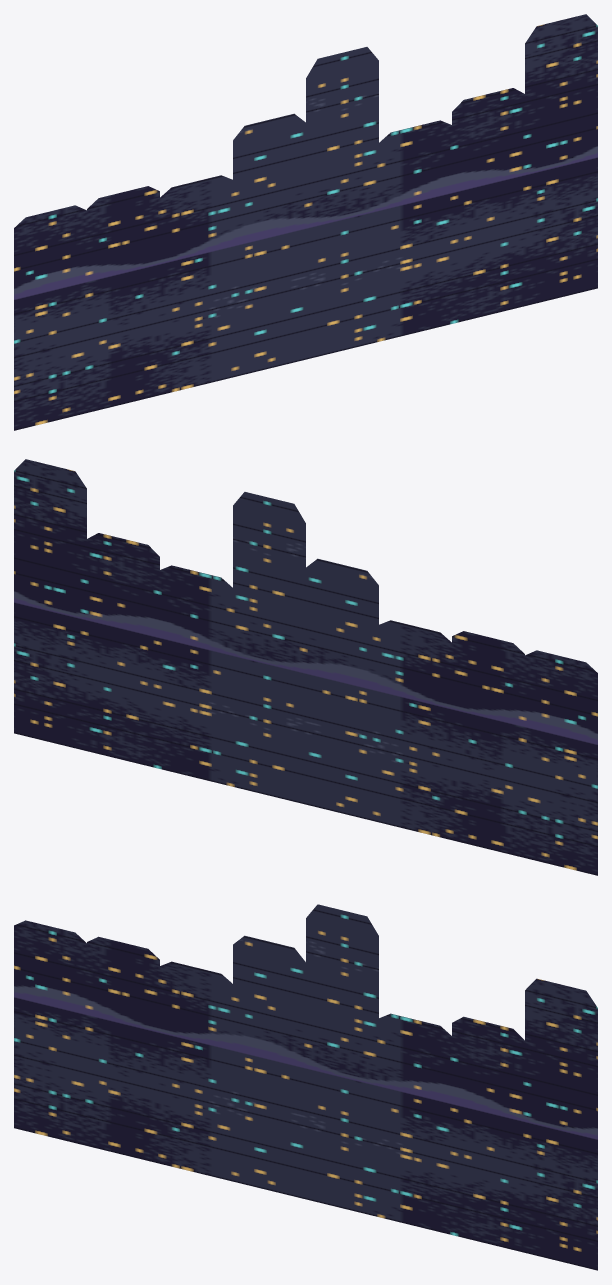
Rendered from cysky.near__low.glb.
3 views of the same model, one above another, from view 1: azimuth 30°, elevation 25°; view 2: azimuth 150°, elevation 25°; view 3: azimuth 330°, elevation 25° (orthographic).
Parts seen in each view (by area): view 1: kit_card_skyline; view 2: kit_card_skyline; view 3: kit_card_skyline.
Boxes of the visible parts, left/top/right/bottom form: kit_card_skyline: left=14, top=14, right=597, bottom=430; kit_card_skyline: left=14, top=459, right=597, bottom=875; kit_card_skyline: left=14, top=904, right=597, bottom=1270.
Bounding box in the file's own units: 56 × 27.3 × 0.
Materials: 1 (1 with a texture image).
